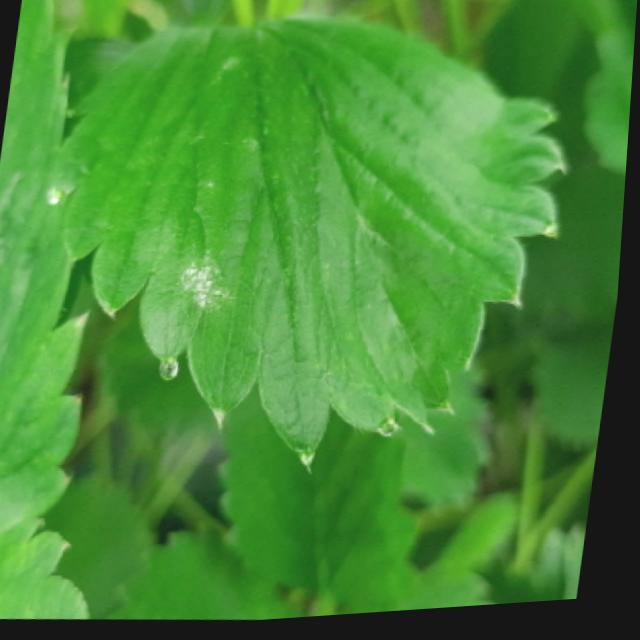Powdery Mildew Leaf: (47, 20, 572, 476)
